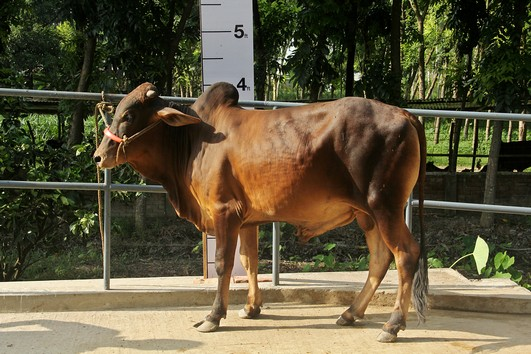cow: (84, 73, 437, 341)
